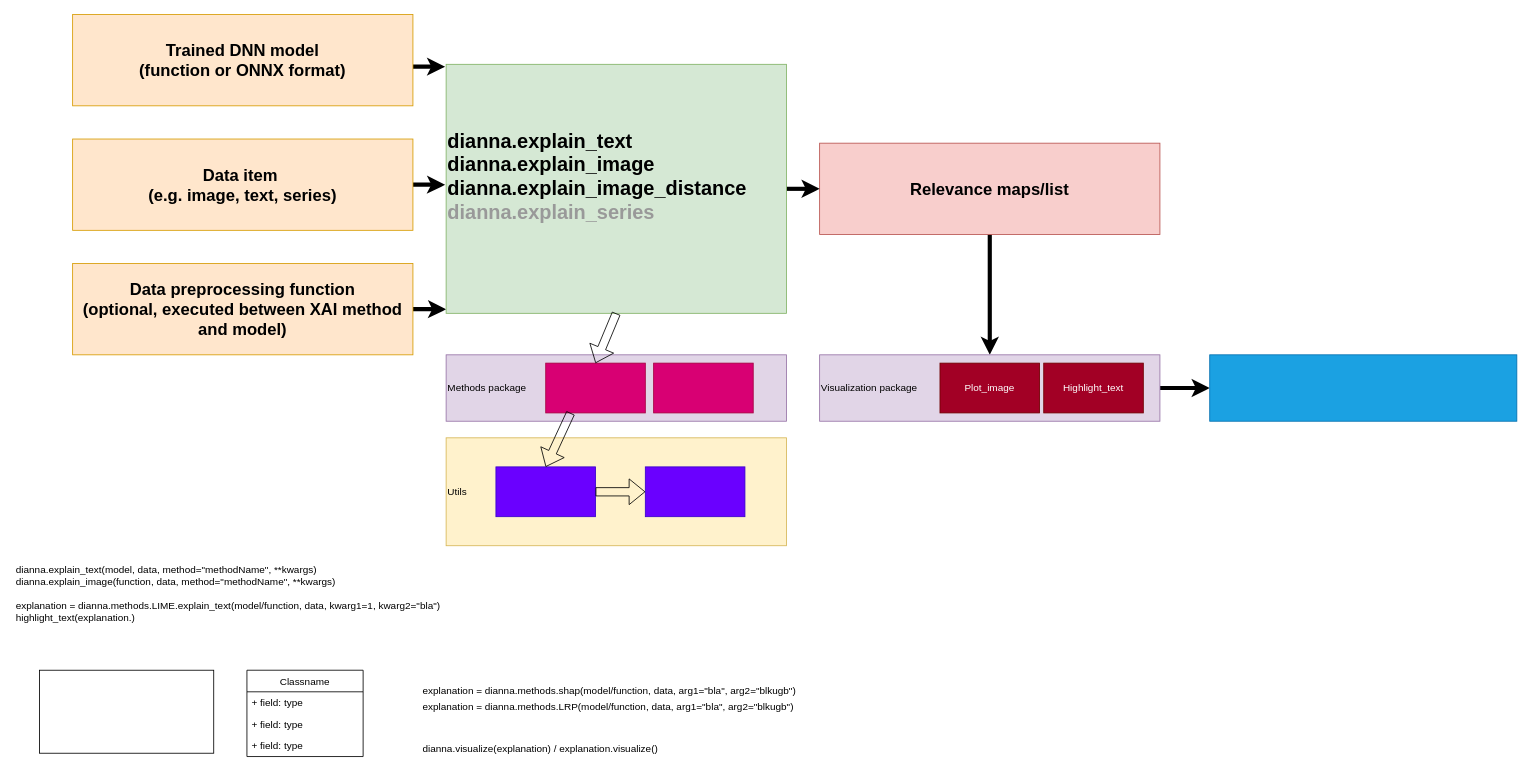
Image size: 1531x774. Some labels were removed from this diagram. The shapes that lost their labels are listed below. From the top down, each one's centre as x and y in pixels, then its label:
At (595,387): "specific method: RISE.explain_text RISE.explain_image".
At (703,387): "specific method: LIME.explain_text LIME.explain_image".
At (1363,387): "Plot of relevance (optionally overlayed on data)".
At (545,491): "get_function".
At (694,491): "ONNX runner".
At (126,711): "Base class (ONNX)".
